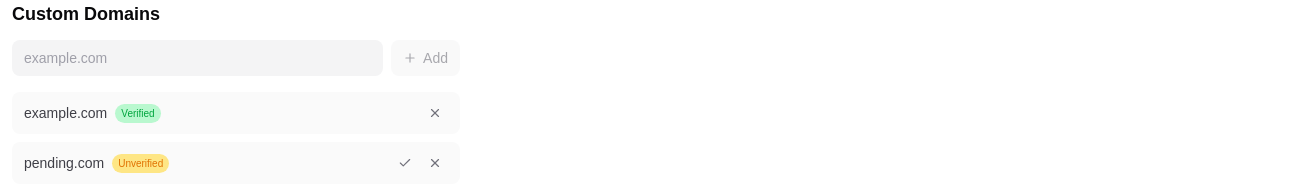
CustomDomainsSection › adds a custom domain and shows a confirmation
The image size is (1292, 190).
Type "newdomain.com" into the field with placeholder "example.com" at (198, 58), box [12,40,383,76]
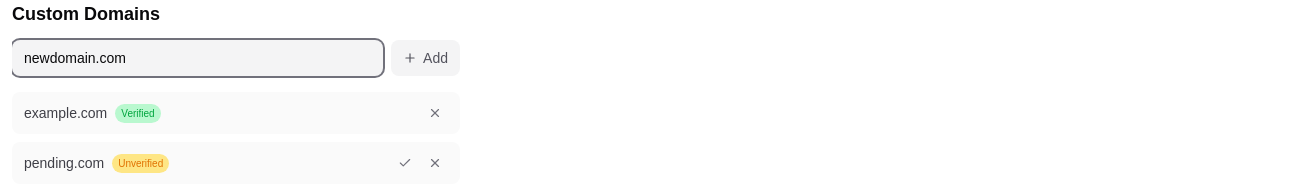
Check: the button "Add" is enabled
Click the button "Add" at (426, 58), box [391,40,460,76]
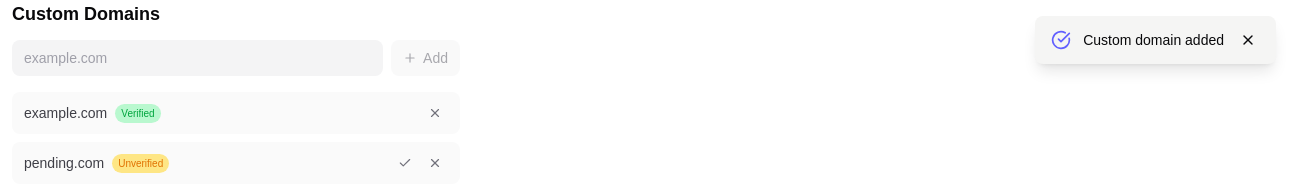
Check: the text "Custom domain added" is shown, box [1083,30,1224,50]
